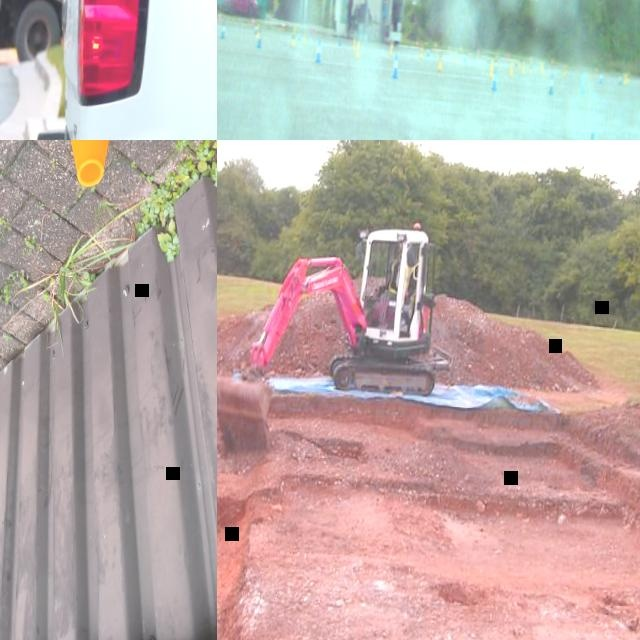Hardhat: (397, 241, 411, 251)
Person: (371, 239, 418, 323)
Safety Cone: (6, 140, 163, 191), (391, 53, 400, 79), (254, 26, 263, 48), (314, 39, 322, 63), (547, 72, 555, 96), (218, 16, 226, 39), (490, 68, 498, 91), (290, 25, 297, 47), (508, 59, 515, 78), (579, 76, 586, 95), (437, 52, 443, 72), (355, 40, 361, 58), (539, 58, 545, 75), (598, 68, 604, 84), (520, 59, 526, 75), (489, 60, 494, 77), (527, 60, 533, 74), (254, 23, 259, 38), (296, 27, 301, 41), (562, 63, 567, 77), (217, 9, 222, 21), (302, 28, 306, 42), (338, 33, 342, 47), (352, 36, 356, 50), (388, 41, 392, 55), (494, 54, 498, 68), (280, 21, 285, 32), (419, 47, 424, 58), (425, 47, 430, 58), (253, 22, 257, 35), (453, 50, 457, 63), (544, 58, 548, 71), (462, 50, 466, 62), (618, 74, 622, 85), (250, 15, 254, 26), (486, 53, 490, 64), (622, 74, 626, 85), (626, 72, 630, 83), (414, 39, 418, 48), (434, 42, 438, 50), (476, 47, 480, 55), (447, 43, 451, 51)
Safety Vest: (388, 256, 416, 297)
machinery: (217, 211, 446, 473)
vehicle: (0, 0, 217, 140)
